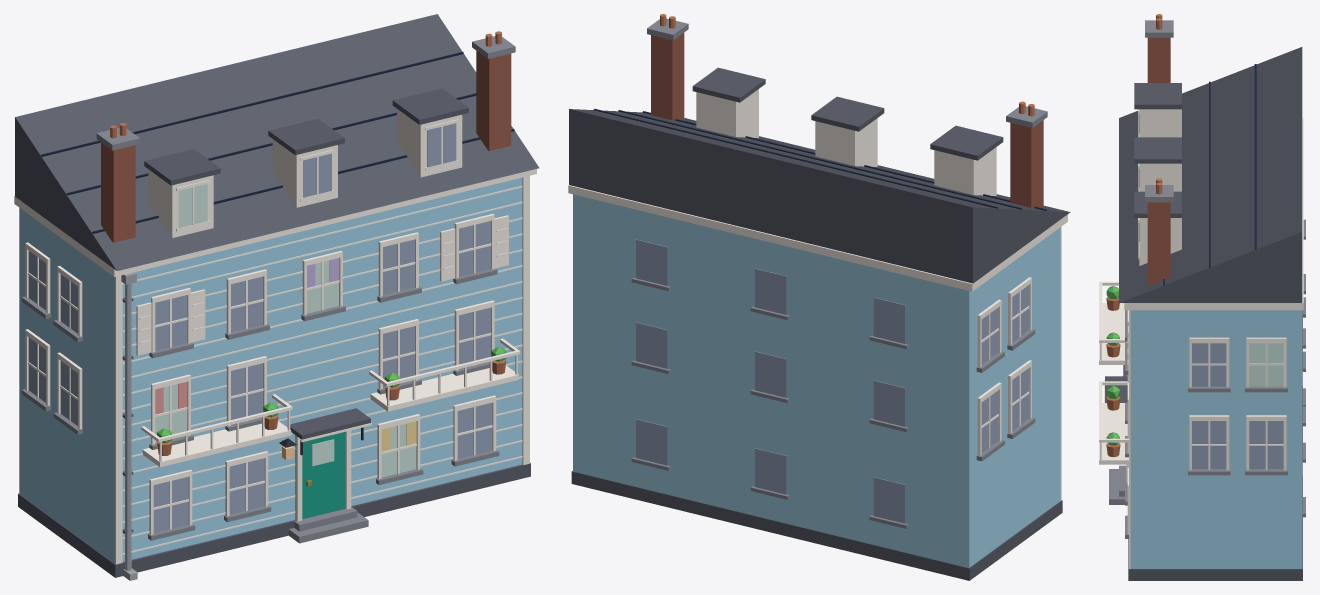
File: CatCafe_Alley_Building_Townhouses.fbx
3 views of the same model, side by side, from view 1: azimuth 30°, elevation 25°; view 2: azimuth 150°, elevation 25°; view 3: azimuth 270°, elevation 25° (orthographic). The views are drawn at different scales.
Parts seen in each view (by area): view 1: CatCafe_Alley_Building_Townhouses, CatCafe_Alley_Building_Townhouses_Pane; view 2: CatCafe_Alley_Building_Townhouses; view 3: CatCafe_Alley_Building_Townhouses, CatCafe_Alley_Building_Townhouses_Pane, CatCafe_Alley_Building_Townhouses_Flowers.
Part boxes in pixels (x1,y1,x2,y2): CatCafe_Alley_Building_Townhouses: [14, 14, 539, 580]; CatCafe_Alley_Building_Townhouses_Pane: [155, 184, 416, 477]; CatCafe_Alley_Building_Townhouses: [568, 14, 1070, 580]; CatCafe_Alley_Building_Townhouses: [1099, 14, 1305, 580]; CatCafe_Alley_Building_Townhouses_Pane: [1138, 114, 1283, 386]; CatCafe_Alley_Building_Townhouses_Flowers: [1106, 286, 1119, 445].
Size of the model in its own units: 30.8 by 30.1 by 14.45.
Materials: 1 (1 with a texture image).
